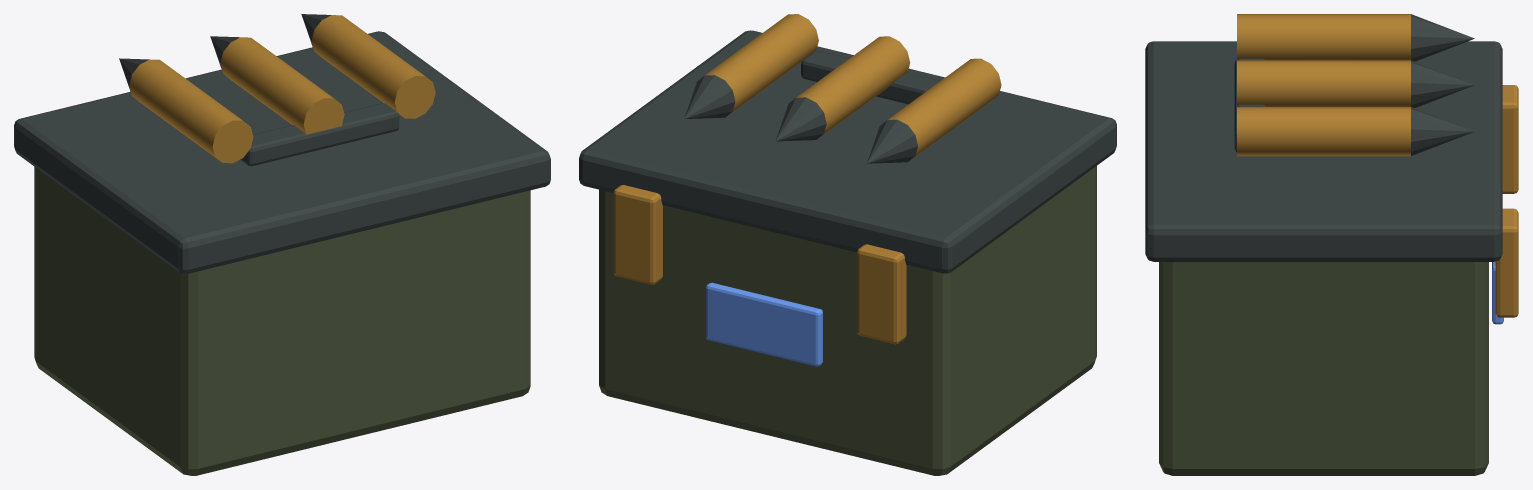
Rendered from noir-ammo-pistol.glb.
3 views of the same model, side by side, from view 1: azimuth 30°, elevation 25°; view 2: azimuth 150°, elevation 25°; view 3: azimuth 270°, elevation 25° (orthographic). The views are drawn at different scales.
Visible parts, largest first — view 1: noir-ammo-pistol mesh; view 2: noir-ammo-pistol mesh; view 3: noir-ammo-pistol mesh.
Boxes of the visible parts, <box> form: noir-ammo-pistol mesh: <box>14,14,550,475</box>; noir-ammo-pistol mesh: <box>579,14,1116,475</box>; noir-ammo-pistol mesh: <box>1145,14,1518,475</box>.
Size of the model in its own units: 0.49 by 0.397 by 0.4075.
